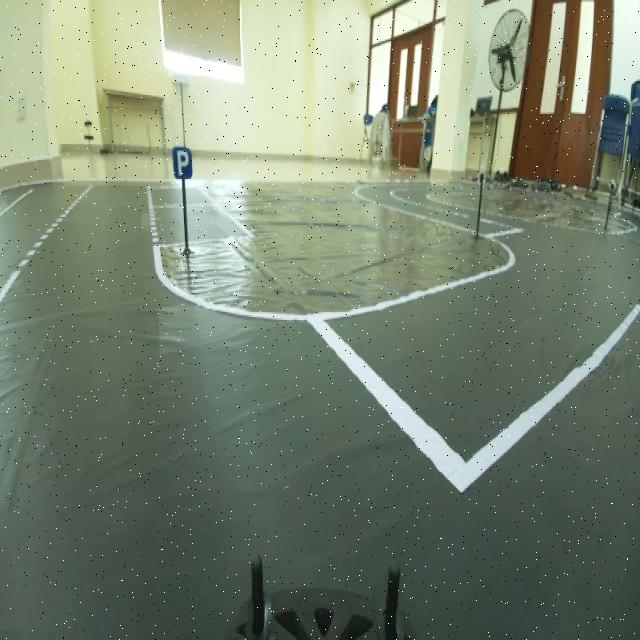parking: (169, 139, 195, 186)
